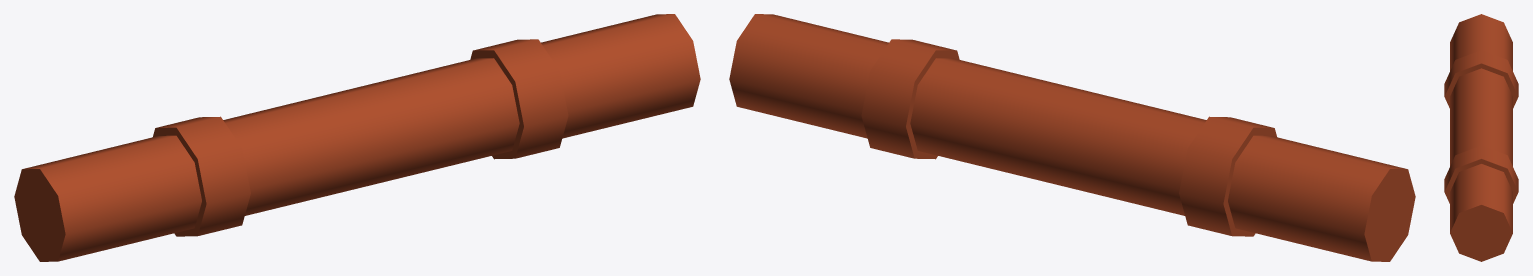
The model's file is telhado_cumeeira_1m.glb.
3 views of the same model, side by side, from view 1: azimuth 30°, elevation 25°; view 2: azimuth 150°, elevation 25°; view 3: azimuth 270°, elevation 25° (orthographic). The views are drawn at different scales.
Visible parts, largest first — view 1: telhado_cumeeira_1m; view 2: telhado_cumeeira_1m; view 3: telhado_cumeeira_1m.
Boxes of the visible parts, box(x1,y1,x2,y2) form: telhado_cumeeira_1m: box(14, 14, 700, 261); telhado_cumeeira_1m: box(729, 14, 1415, 261); telhado_cumeeira_1m: box(1444, 14, 1518, 261).
Bounding box in the file's own units: 1 × 0.164 × 0.164.
